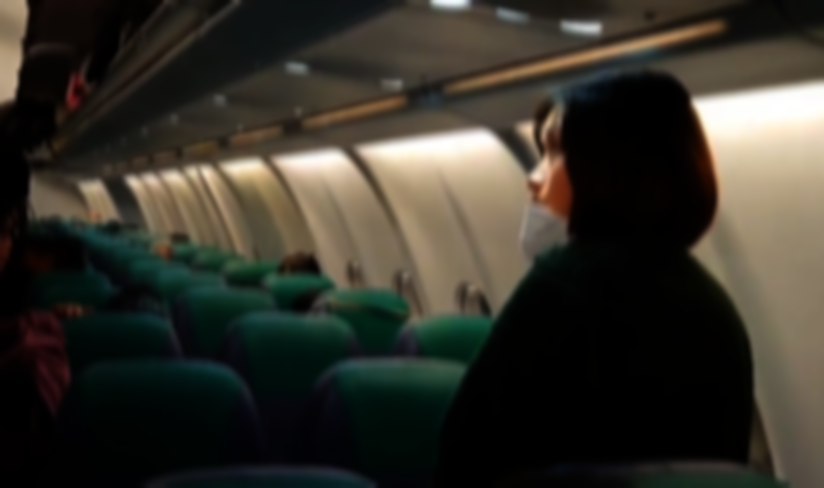mask_weared_incorrect: (516, 68, 638, 265)
